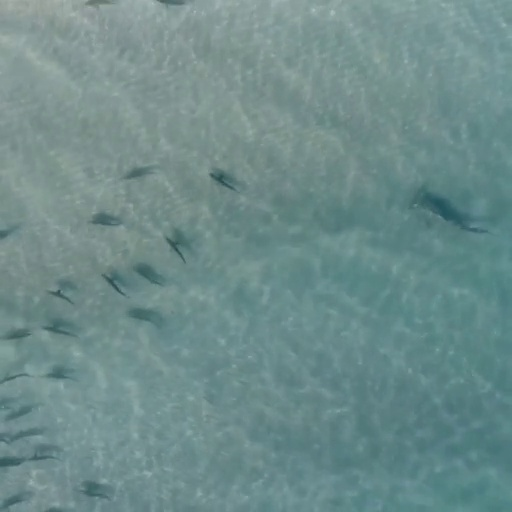shark: (408, 183, 492, 237)
